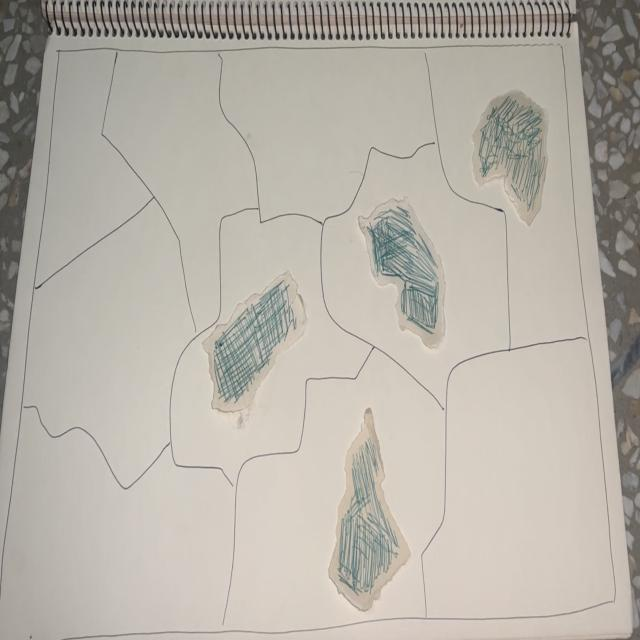paper: (316, 402, 416, 616), (201, 266, 313, 429), (359, 193, 450, 365), (467, 83, 553, 235)
